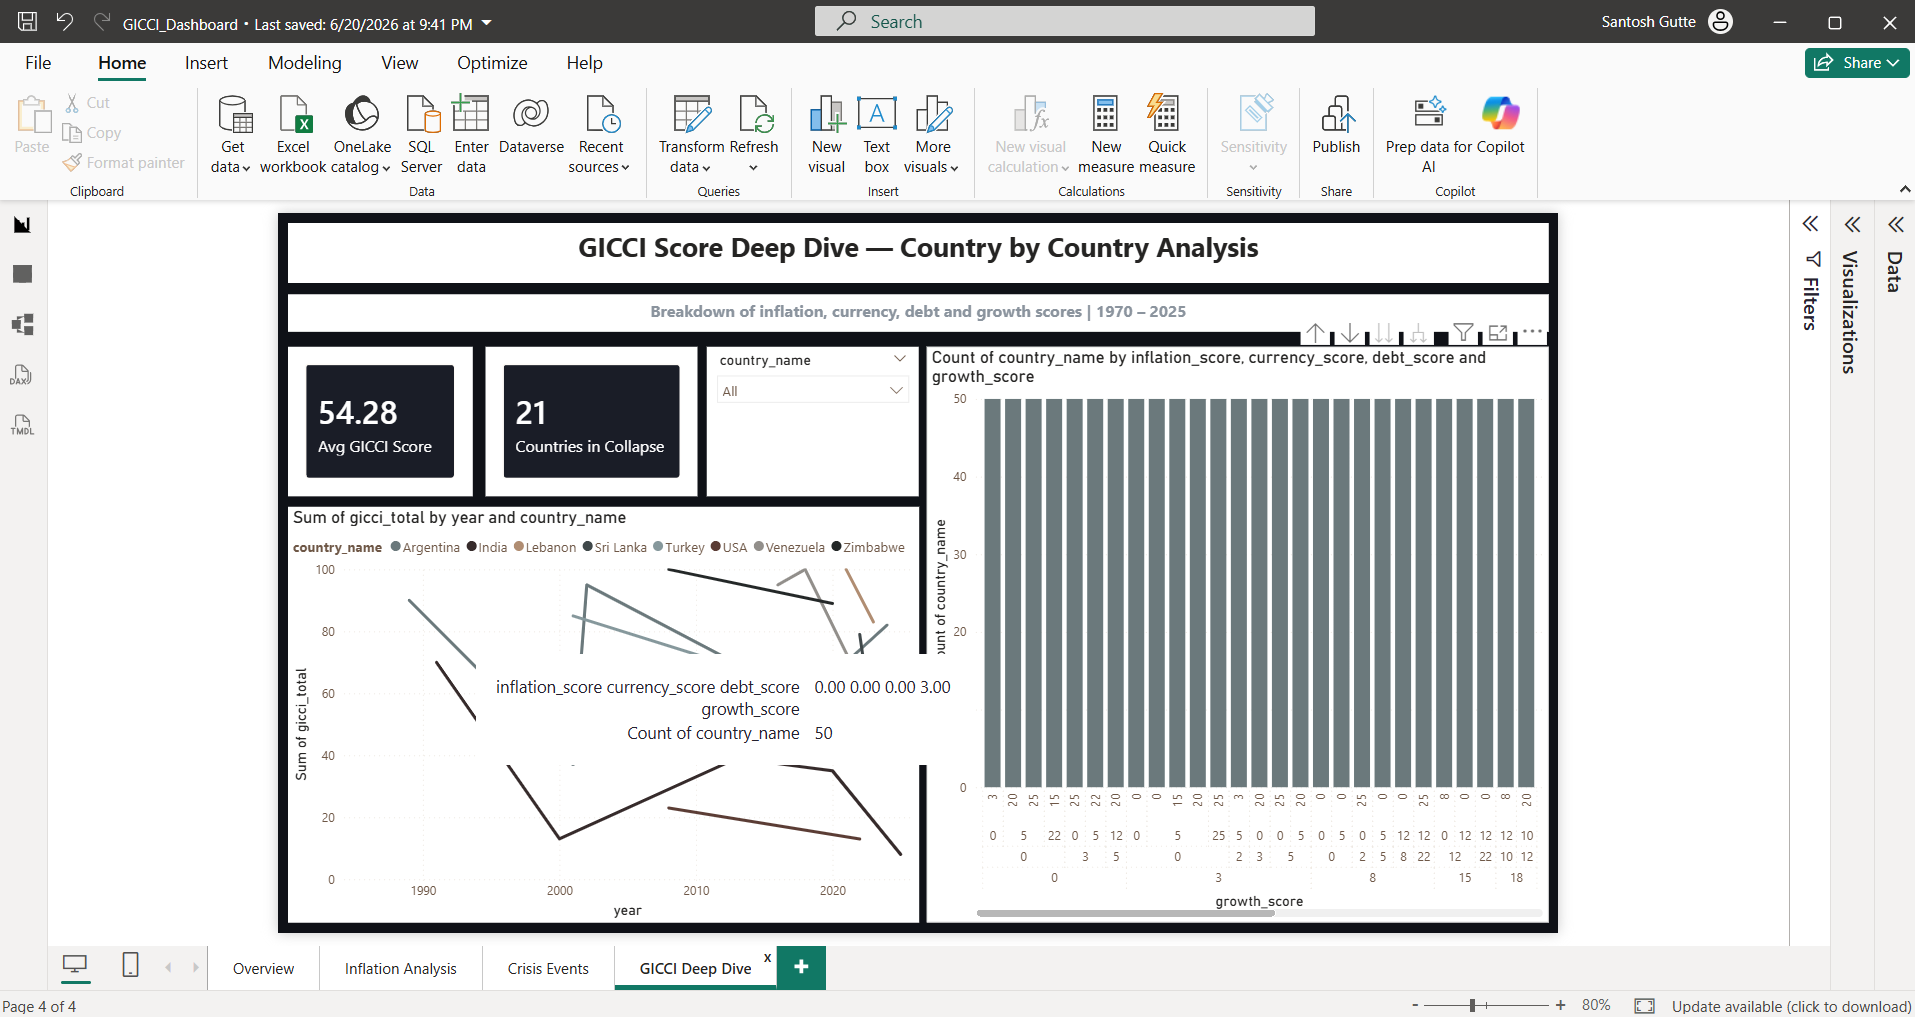

This screenshot's page, from the dashboard's own definition file:
{"tool":"powerbi","page":{"name":"GICCI Deep Dive","canvas":[1280,720],"ordinal":3},"visuals":[{"type":"textbox","box":[9.7,9.7,1260.7,60.3],"z":0},{"type":"textbox","box":[9.7,80.8,1260.7,37.4],"z":1000},{"type":"cardVisual","fields":{"Data":["gicci_db countries.Avg GICCI Score"]},"box":[9.7,133.9,184.6,149.6],"z":2000},{"type":"cardVisual","fields":{"Data":["gicci_db countries.Countries in Collapse"]},"box":[207.5,133.9,212.3,149.6],"z":3000},{"type":"lineChart","fields":{"Category":["gicci_db gicci_scores.year"],"Y":["Sum(gicci_db gicci_scores.gicci_total)"],"Series":["gicci_db countries.country_name"]},"box":[9.7,293.2,631,416.2],"z":4000},{"type":"slicer","fields":{"Values":["gicci_db countries.country_name"]},"box":[428.3,133.9,212.3,149.6],"z":5000},{"type":"columnChart","fields":{"Y":["CountNonNull(gicci_db countries.country_name)"],"Category":["gicci_db gicci_scores.inflation_score","gicci_db gicci_scores.currency_score","gicci_db gicci_scores.debt_score","gicci_db gicci_scores.growth_score"]},"box":[649.1,133.9,621.3,575.5],"z":6000}]}

Visuals, with their boxes on the page's 1280x720 design canvas (x1, y1, x2, y2). These are canvas units, not pixel positions in the 1915x1017 screenshot, which may show the page scaled, cropped or inside an application window:
textbox: x1=10, y1=10, x2=1270, y2=70
textbox: x1=10, y1=81, x2=1270, y2=118
cardVisual - gicci_db countries.Avg GICCI Score: x1=10, y1=134, x2=194, y2=284
cardVisual - gicci_db countries.Countries in Collapse: x1=208, y1=134, x2=420, y2=284
lineChart - gicci_db gicci_scores.year x Sum(gicci_db gicci_scores.gicci_total): x1=10, y1=293, x2=641, y2=709
slicer - gicci_db countries.country_name: x1=428, y1=134, x2=641, y2=284
columnChart - CountNonNull(gicci_db countries.country_name) x gicci_db gicci_scores.inflation_score: x1=649, y1=134, x2=1270, y2=709
